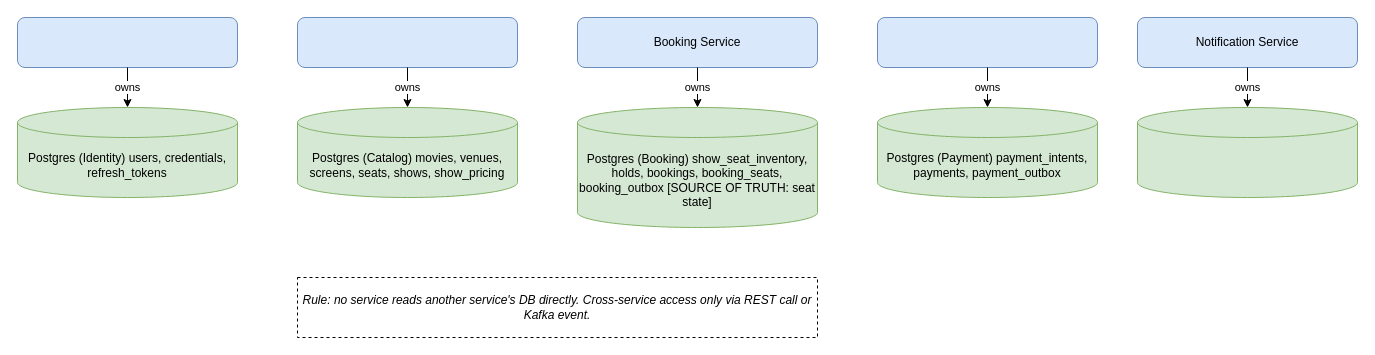
The diagram is 1375 pixels wide and 355 high, and some of its shapes have lost their labels. Here are the shapes that lost their labels. From the top down, the box of each, then its label:
(16, 16, 238, 68): Identity Service
(296, 16, 518, 68): Catalog Service
(876, 16, 1098, 68): Payment Service
(1136, 106, 1358, 198): Postgres (Notification) notification_log (delivery audit only)
